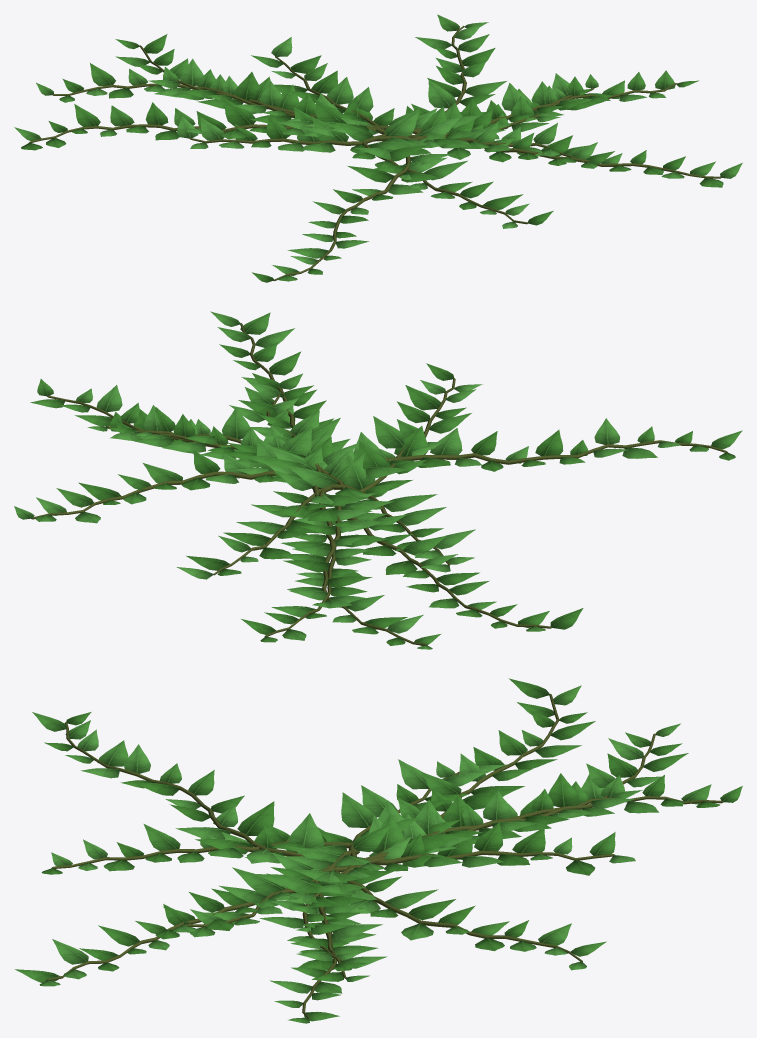
File: ivy1.glb
The picture shows the model from 3 angles, top to bottom: view 1: azimuth 30°, elevation 25°; view 2: azimuth 150°, elevation 25°; view 3: azimuth 270°, elevation 25°; orthographic projection. The views are drawn at different scales.
Visible parts, largest first — view 1: ivy1_leaves_LOD0, ivy1_vines_LOD0; view 2: ivy1_leaves_LOD0, ivy1_vines_LOD0; view 3: ivy1_leaves_LOD0, ivy1_vines_LOD0.
Boxes of the visible parts, bbox=[...] form: ivy1_leaves_LOD0: bbox=[14, 14, 742, 282]; ivy1_vines_LOD0: bbox=[29, 25, 721, 281]; ivy1_leaves_LOD0: bbox=[14, 311, 742, 649]; ivy1_vines_LOD0: bbox=[31, 323, 727, 645]; ivy1_leaves_LOD0: bbox=[14, 678, 742, 1023]; ivy1_vines_LOD0: bbox=[46, 694, 723, 1018].
Size of what is drawn, in the model's own units: 2.12 by 0.0641 by 1.92.
2 materials, 1 textured.
